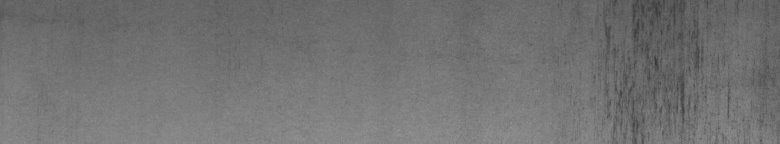ka: (606, 7, 730, 133)
